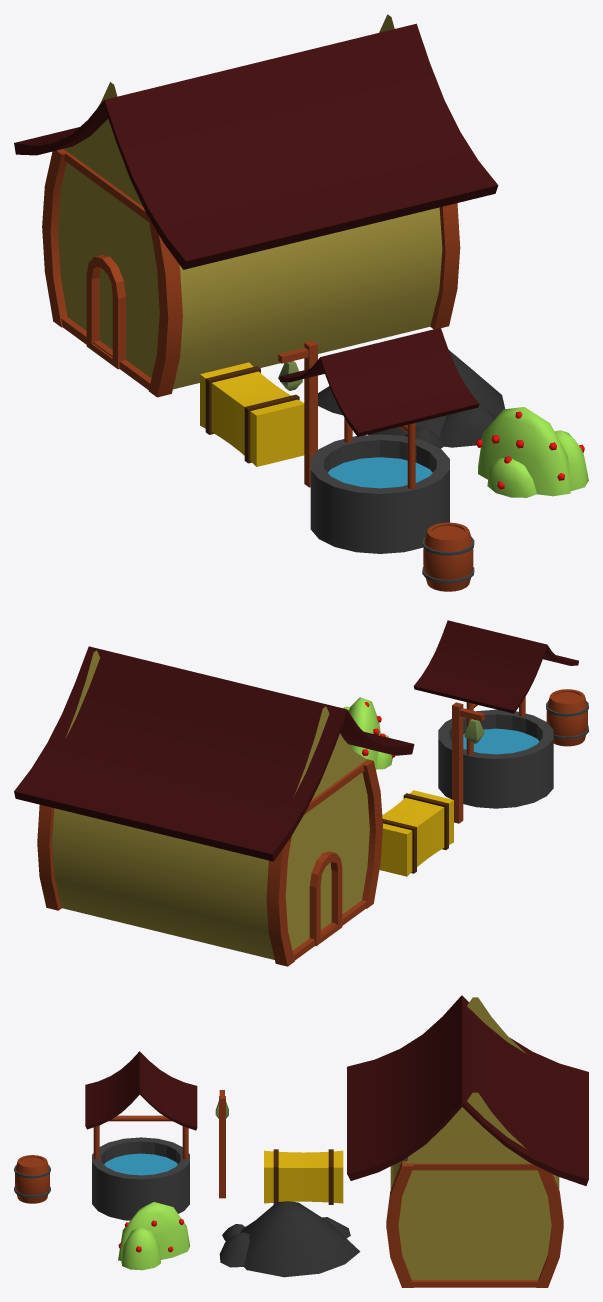
The model's file is FarmModelsPack.FBX.
3 renders of one model, top to bottom at view 1: azimuth 30°, elevation 25°; view 2: azimuth 150°, elevation 25°; view 3: azimuth 270°, elevation 25°, orthographic. The views are drawn at different scales.
Parts seen in each view (by area): view 1: Box002, Box001, Cylinder002, Box018, Box005, Box011, GeoSphere006, Cylinder001, Cylinder006, Box010, Plane001, GeoSphere001 (+6 smaller); view 2: Box002, Box001, Box018, Cylinder002, Box005, Box011, Box010, Cylinder001, Cylinder006, Box014, Plane001, GeoSphere006 (+3 smaller); view 3: Box002, Box001, GeoSphere001, Cylinder002, Box018, Box010, Box011, Box005, GeoSphere006, Cylinder006, GeoSphere007, Plane001 (+5 smaller).
Boxes of the visible parts, box(x1,y1,x2,y2) form: Box002: box(14, 23, 498, 269); Box001: box(58, 162, 442, 389); Cylinder002: box(310, 434, 449, 553); Box018: box(279, 327, 479, 436); Box005: box(42, 149, 460, 397); Box011: box(200, 362, 304, 466); GeoSphere006: box(478, 407, 570, 496); Cylinder001: box(86, 254, 125, 369); Cylinder006: box(423, 522, 473, 591); Box010: box(64, 14, 394, 206); Plane001: box(328, 457, 432, 488); GeoSphere001: box(368, 350, 504, 439); Box002: box(14, 646, 414, 861); Box001: box(52, 772, 369, 959); Box018: box(413, 620, 578, 713); Cylinder002: box(438, 709, 553, 808); Box005: box(37, 760, 382, 966); Box011: box(379, 790, 453, 876); Box010: box(65, 650, 366, 799); Cylinder001: box(309, 851, 342, 946); Cylinder006: box(546, 689, 587, 746); Box014: box(452, 702, 463, 823); Plane001: box(463, 728, 539, 754); GeoSphere006: box(348, 697, 380, 769); Box002: box(347, 995, 588, 1185); Box001: box(390, 1107, 559, 1279); GeoSphere001: box(240, 1201, 360, 1277); Cylinder002: box(92, 1137, 189, 1220); Box018: box(85, 1051, 197, 1130); Box010: box(403, 997, 530, 1163); Box011: box(264, 1150, 343, 1203); Box005: box(386, 1161, 563, 1287); GeoSphere006: box(118, 1202, 189, 1260); Cylinder006: box(15, 1155, 49, 1203); GeoSphere007: box(121, 1227, 160, 1270); Plane001: box(104, 1153, 177, 1175).
Bounding box in the file's own units: 266 × 216 × 578.
